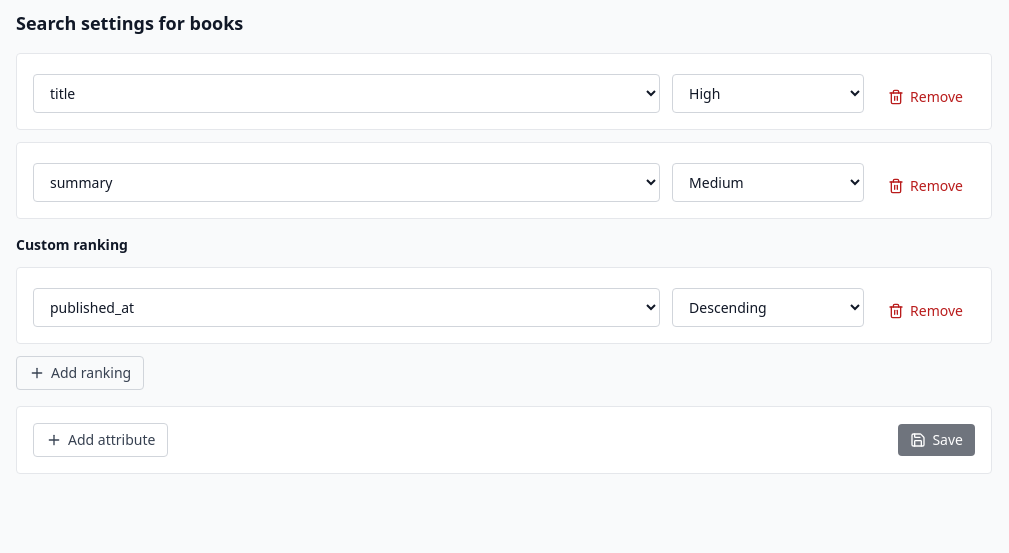
Scenario: SearchSettingsEditor › sends the trimmed full replacement payload and shows successful save status
Expected: the button "Add attribute" is shown, top-left (33, 423), bottom-right (168, 457)
Select "description" in the dropdown named "Column for attribute 2" at (347, 182), box top-left (33, 163), bottom-right (660, 202)
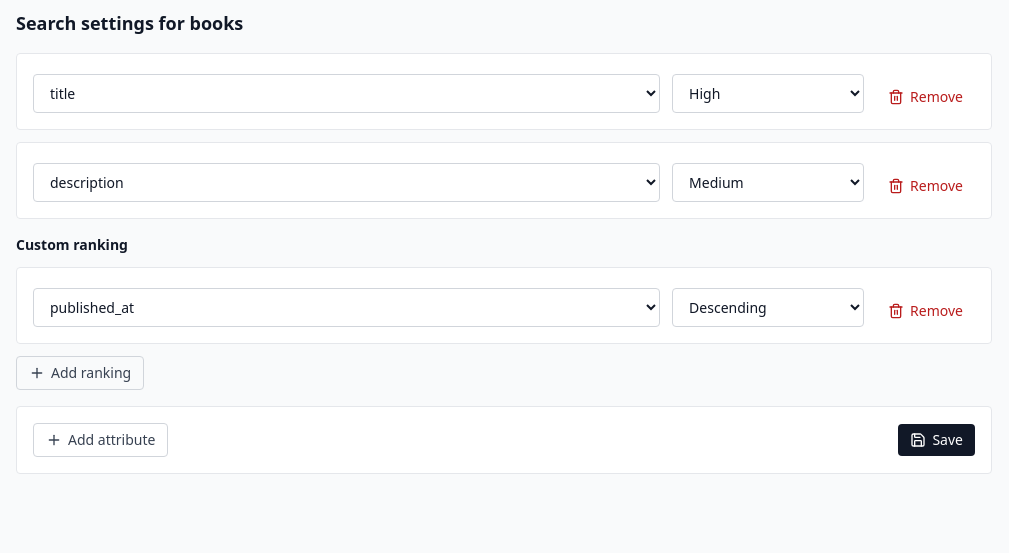
Select "Low" in the dropdown named "Weight for description" at (768, 182), box top-left (672, 163), bottom-right (864, 202)
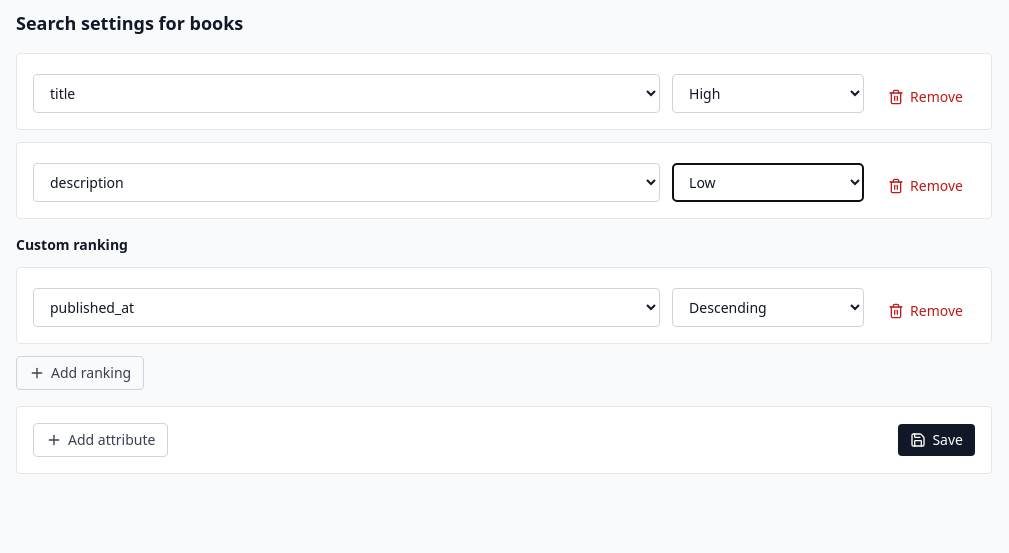
Click the button "Save" at (937, 440), box top-left (898, 424), bottom-right (975, 456)
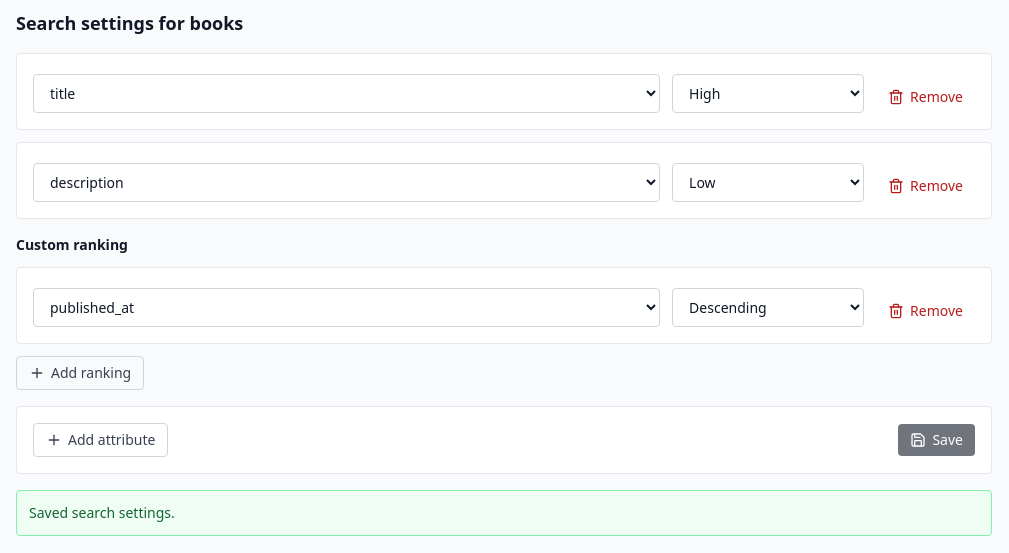
Expected: the message reads "Saved search settings.", top-left (29, 503), bottom-right (175, 522)
